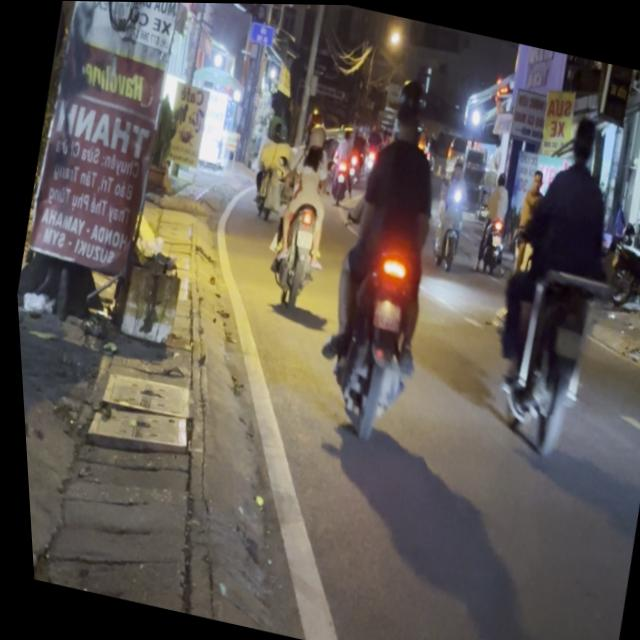helmet: (386, 73, 434, 142), (304, 118, 327, 150)
licenseplate: (288, 62, 477, 448), (458, 95, 640, 466), (250, 110, 350, 312)
motorcyclist: (564, 109, 601, 165)
nohelmet: (365, 296, 400, 329), (549, 323, 581, 356), (292, 226, 311, 247)
